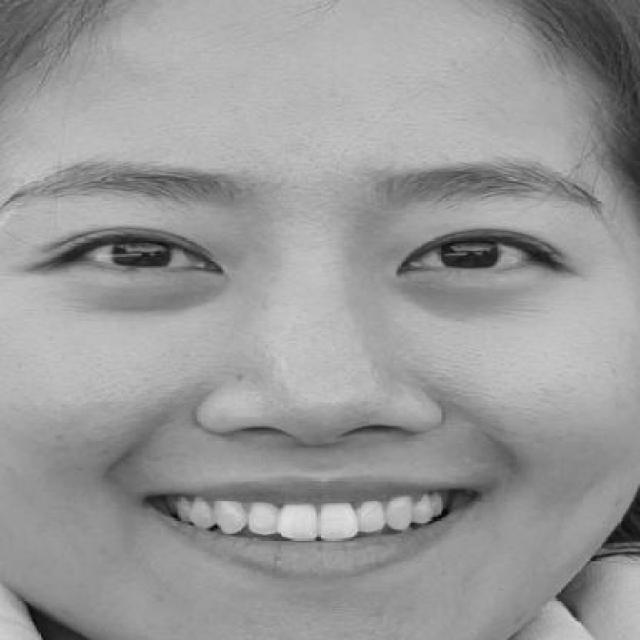happy: (0, 148, 605, 606)
